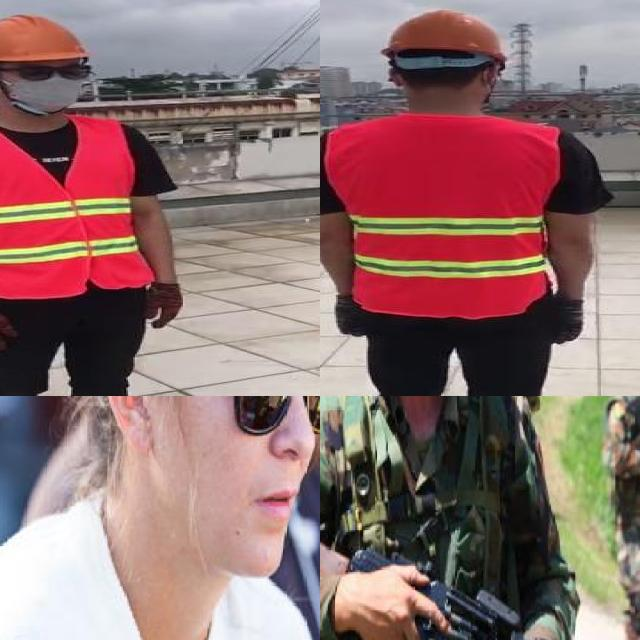No_Ear-Protection: (101, 396, 161, 460)
face_mask: (0, 55, 98, 113)
face_nomask: (220, 396, 320, 541)
glasses: (142, 396, 320, 448), (5, 58, 100, 86)
hand_glove: (142, 284, 180, 328), (334, 295, 366, 337), (557, 298, 583, 344), (0, 307, 19, 352)
hand_noglove: (339, 564, 453, 640)
head_helmet: (377, 8, 509, 64), (0, 11, 93, 67)
person: (320, 8, 615, 396), (0, 11, 205, 396), (0, 396, 320, 640), (320, 396, 582, 640), (602, 396, 640, 640)
vest: (326, 114, 556, 315), (0, 114, 149, 296)
